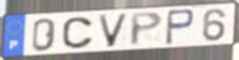0: (31, 17, 58, 53)
6: (200, 8, 228, 43)
C: (61, 16, 96, 50)
P: (129, 11, 164, 48), (163, 8, 196, 46)
V: (96, 12, 131, 49)
